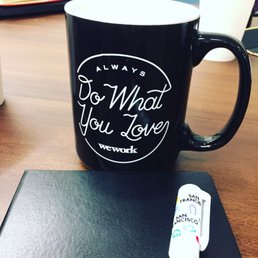wework: (97, 141, 140, 155)
